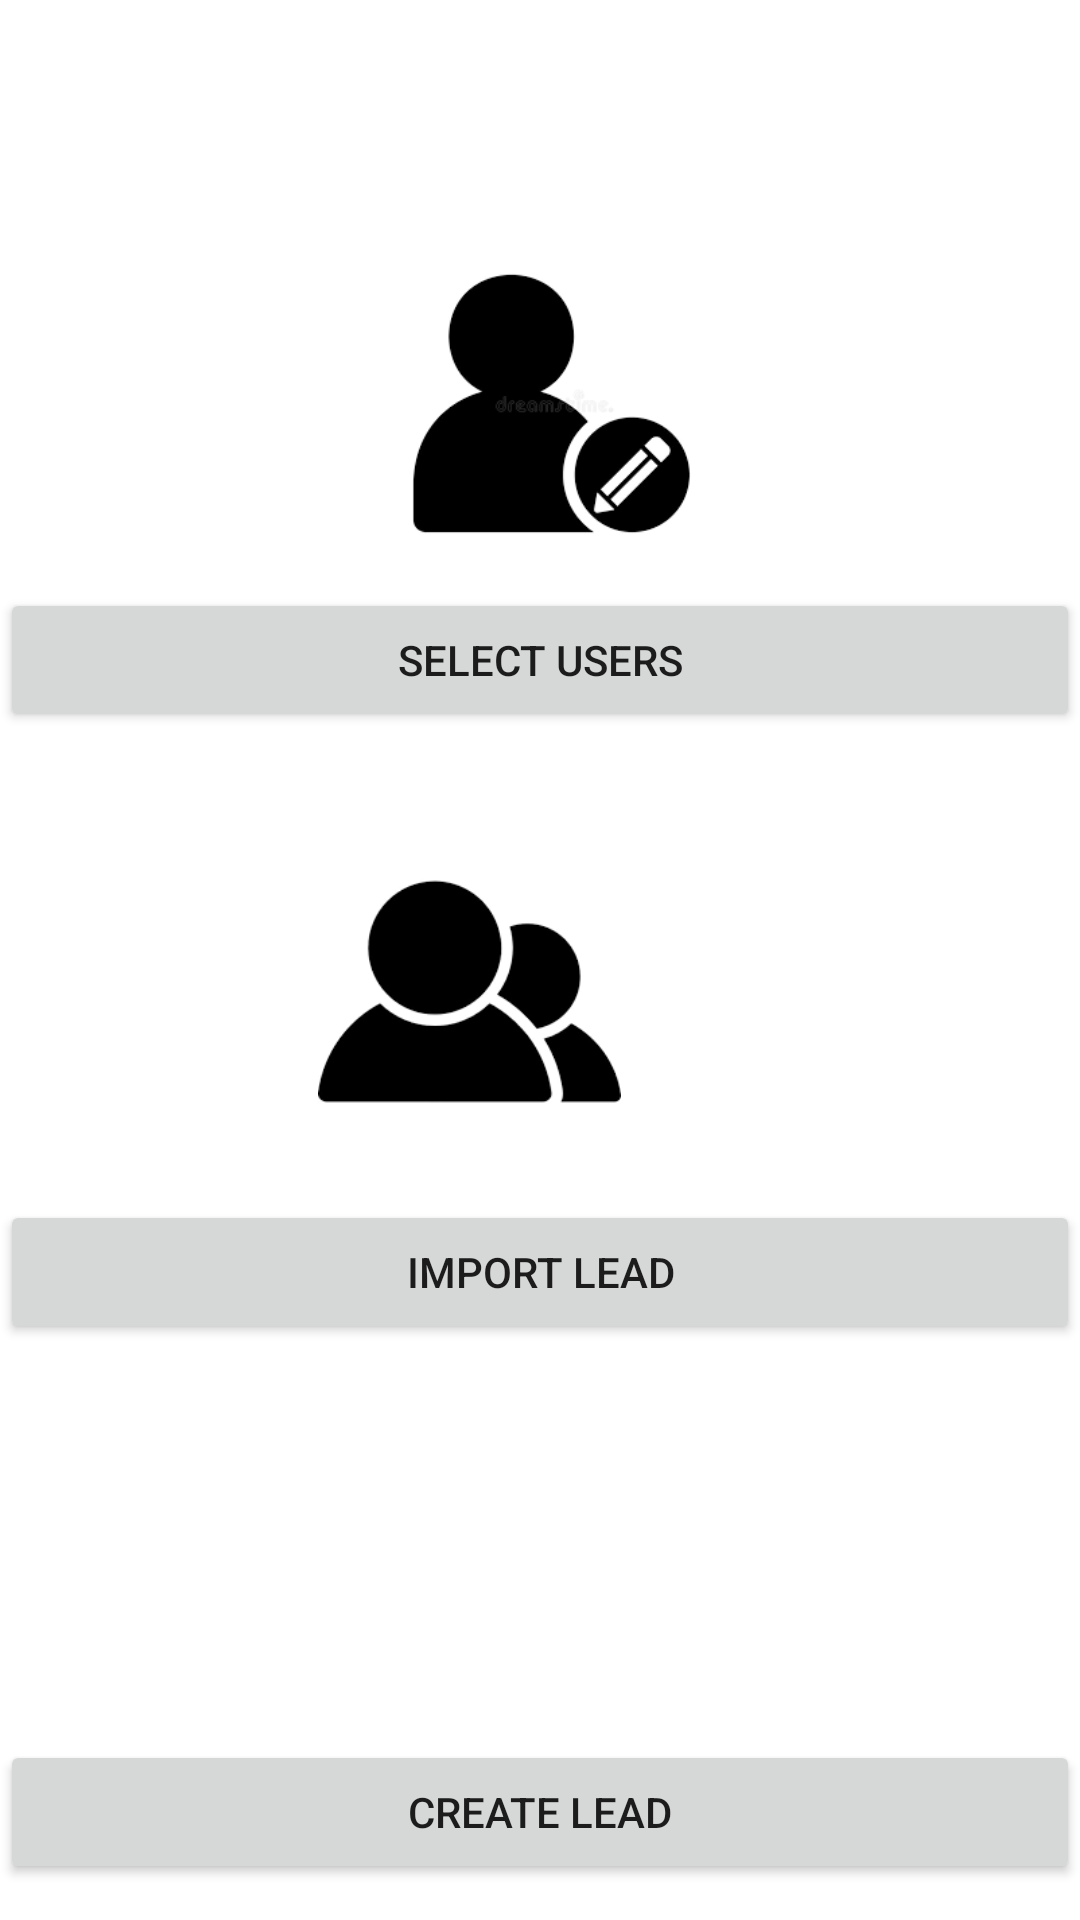

Icons on this 1080px×1920px Android screen, each with its box as BBox(x1, y1, x2, y2):
edit user: BBox(413, 274, 690, 533)
